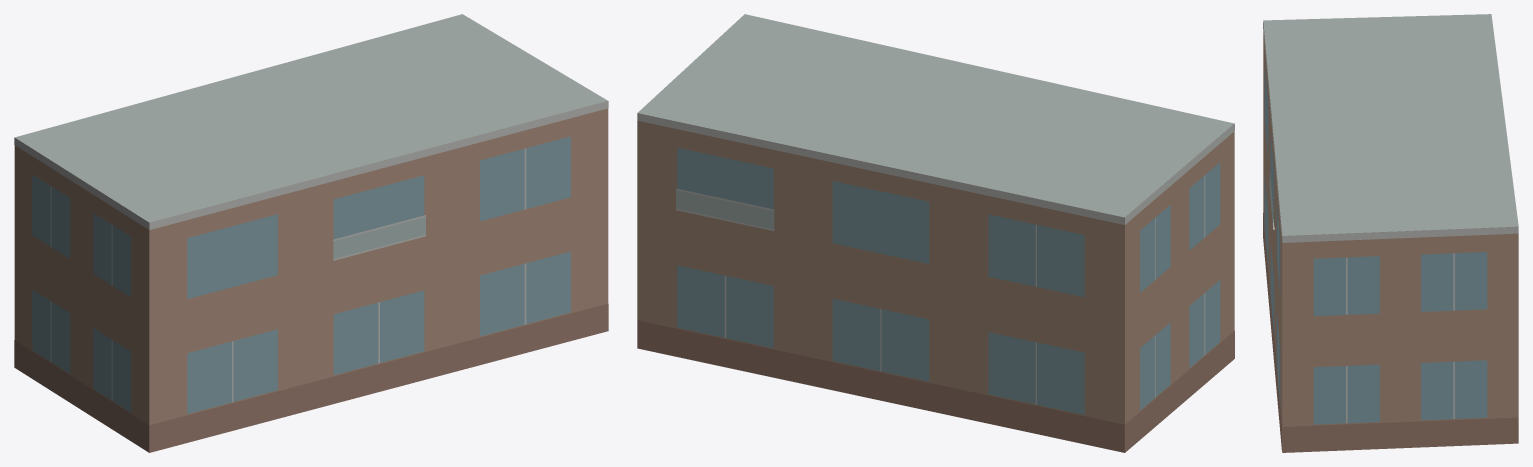
File: survey-upis-32631462.glb
3 views of the same model, side by side, from view 1: azimuth 30°, elevation 25°; view 2: azimuth 150°, elevation 25°; view 3: azimuth 270°, elevation 25° (orthographic). The views are drawn at different scales.
Visible parts, largest first — view 1: survey-upis-32631462.tmp; view 2: survey-upis-32631462.tmp; view 3: survey-upis-32631462.tmp.
Part boxes in pixels (bbox=[...]): survey-upis-32631462.tmp: bbox=[14, 14, 608, 452]; survey-upis-32631462.tmp: bbox=[637, 14, 1234, 452]; survey-upis-32631462.tmp: bbox=[1263, 14, 1518, 452].
Size of the model in its own units: 16.7 by 7.6 by 8.13.
